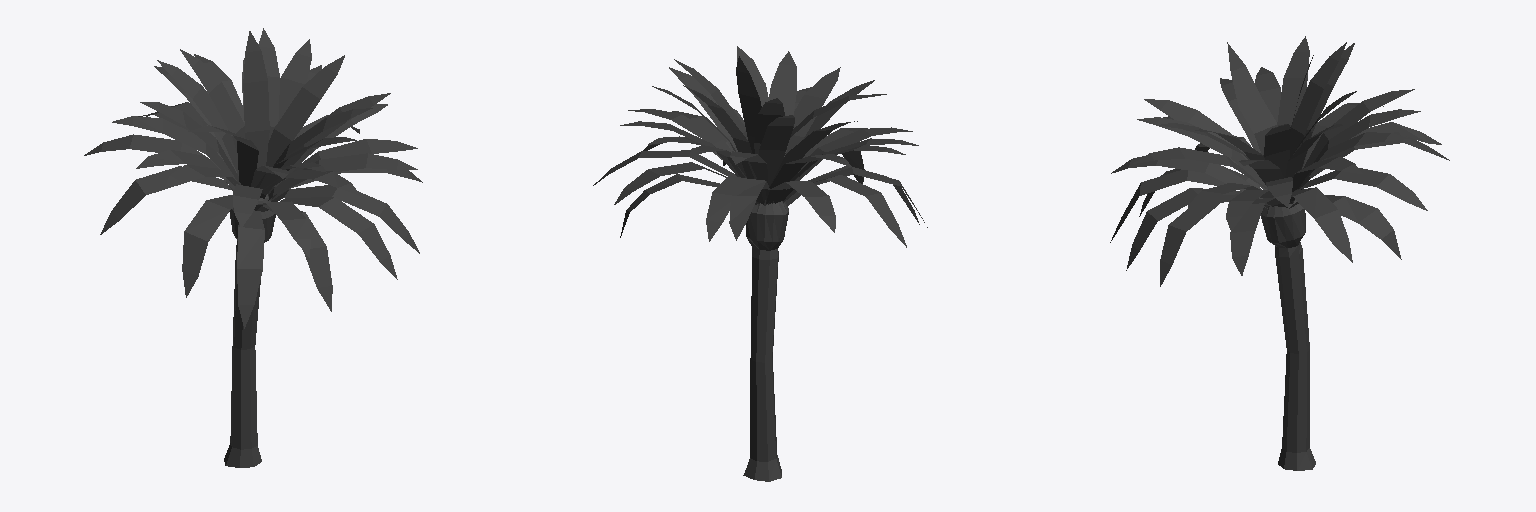
Rendered from Palm_Tree.obj.
3 views of the same model, side by side, from view 1: azimuth 30°, elevation 25°; view 2: azimuth 150°, elevation 25°; view 3: azimuth 270°, elevation 25° (orthographic).
Visible parts, largest first — view 1: ENV_MP_Iraq_PalmTree_01.001; view 2: ENV_MP_Iraq_PalmTree_01.001; view 3: ENV_MP_Iraq_PalmTree_01.001.
Boxes of the visible parts, x1=… form: ENV_MP_Iraq_PalmTree_01.001: x1=84, y1=28, x2=422, y2=467; ENV_MP_Iraq_PalmTree_01.001: x1=593, y1=46, x2=927, y2=481; ENV_MP_Iraq_PalmTree_01.001: x1=1110, y1=36, x2=1449, y2=470.
Bounding box in the file's own units: 6.13 × 8.33 × 6.11.